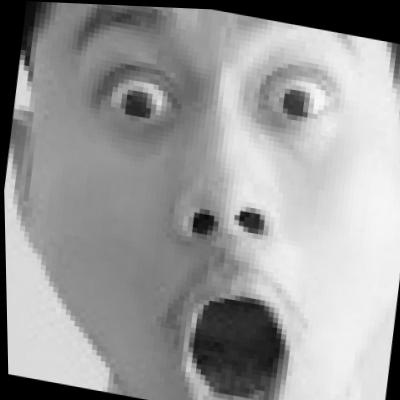surprise: (2, 0, 400, 400)
